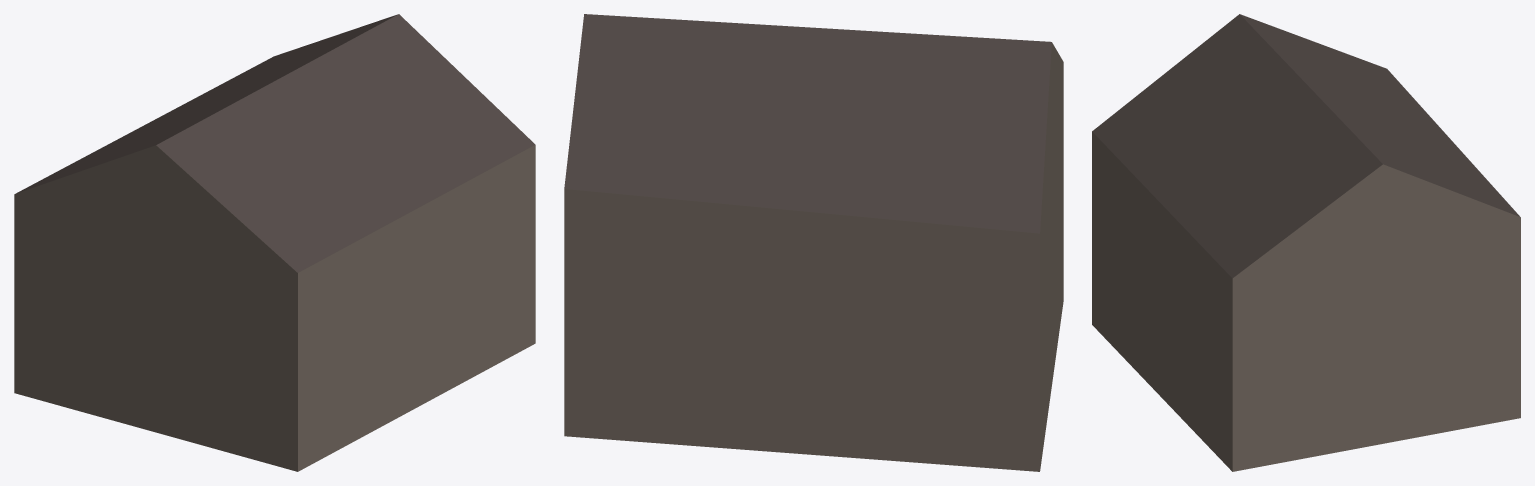
The picture shows the model from 3 angles, left to right: view 1: azimuth 30°, elevation 25°; view 2: azimuth 150°, elevation 25°; view 3: azimuth 270°, elevation 25°; orthographic projection. The views are drawn at different scales.
Parts seen in each view (by area): view 1: HP-w505659419; view 2: HP-w505659419; view 3: HP-w505659419.
Boxes of the visible parts, x1=… form: HP-w505659419: x1=14, y1=14, x2=535, y2=471; HP-w505659419: x1=564, y1=14, x2=1063, y2=471; HP-w505659419: x1=1092, y1=14, x2=1520, y2=471.
Bounding box in the file's own units: 13.95 × 8.67 × 12.05.
